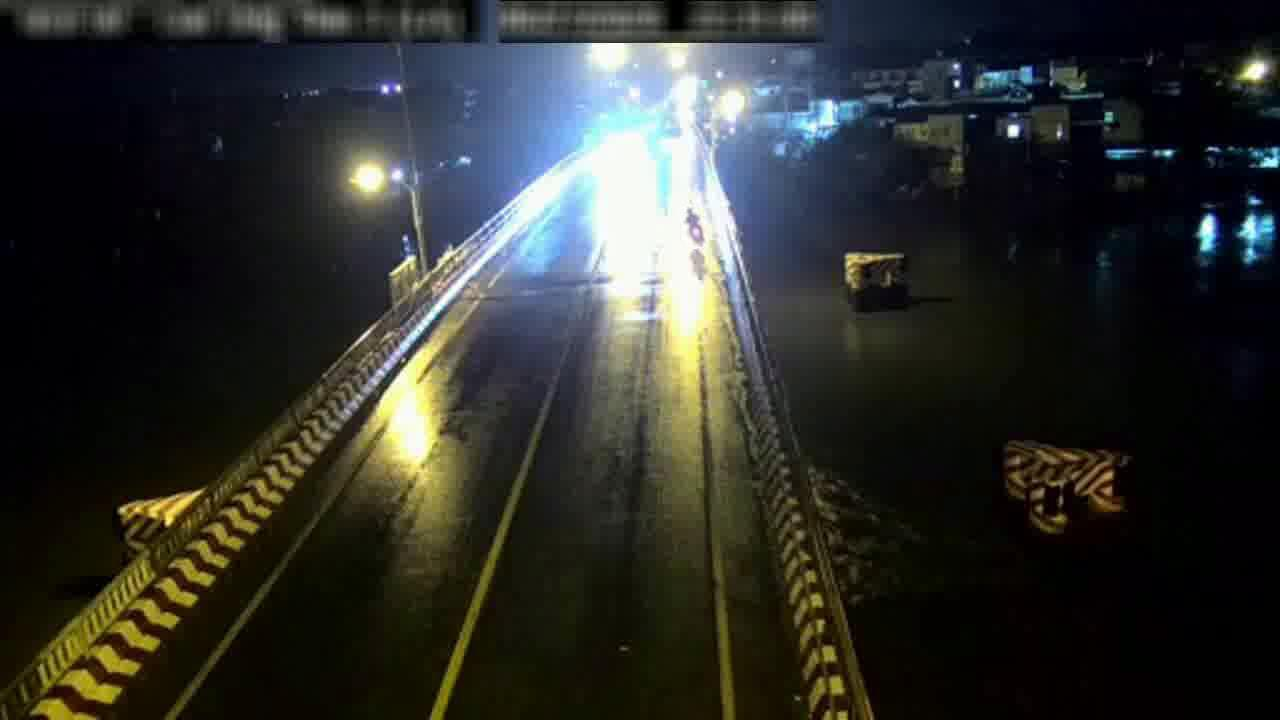motorbike: (681, 205, 707, 249)
